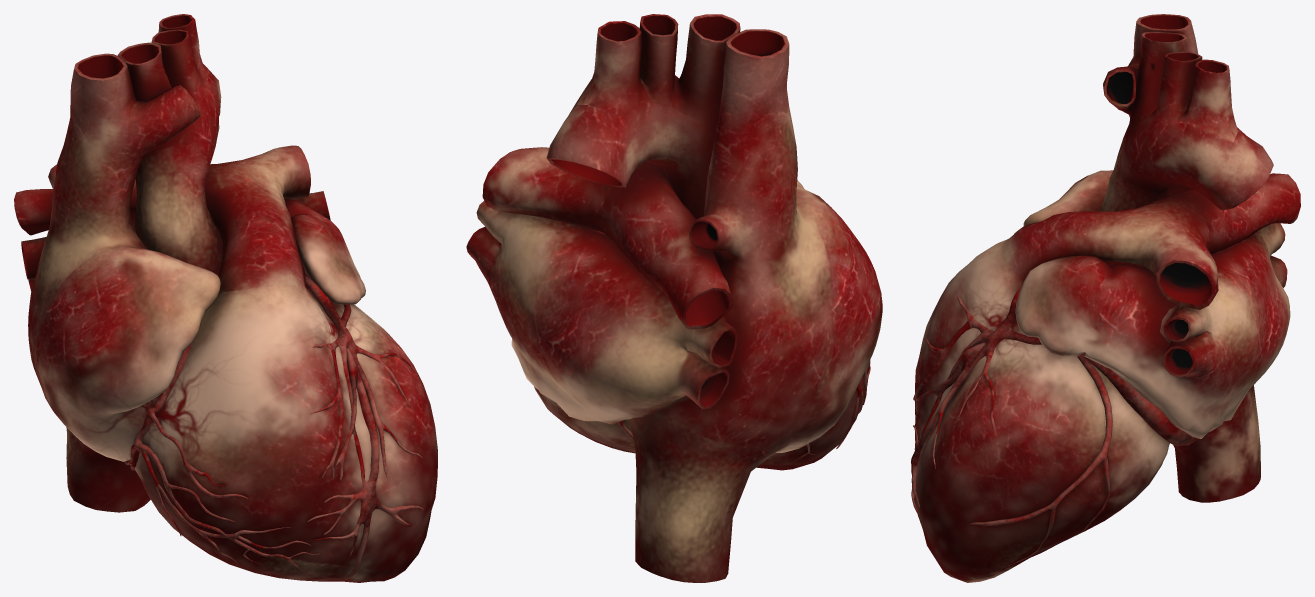
The model's file is exterior-2.glb.
The picture shows the model from 3 angles, left to right: view 1: azimuth 30°, elevation 25°; view 2: azimuth 150°, elevation 25°; view 3: azimuth 270°, elevation 25°; orthographic projection. The views are drawn at different scales.
Visible parts, largest first — view 1: heart; view 2: heart; view 3: heart.
Boxes of the visible parts, x1=… form: heart: x1=14, y1=14, x2=437, y2=582; heart: x1=466, y1=14, x2=882, y2=582; heart: x1=911, y1=14, x2=1300, y2=582.
Bounding box in the file's own units: 0.0809 × 0.1197 × 0.088.
1 material, 1 textured.
